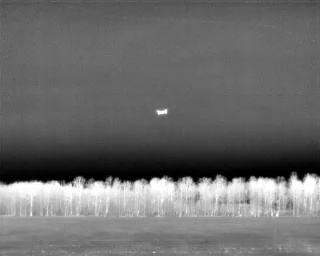DRONE: (152, 103, 173, 121)
